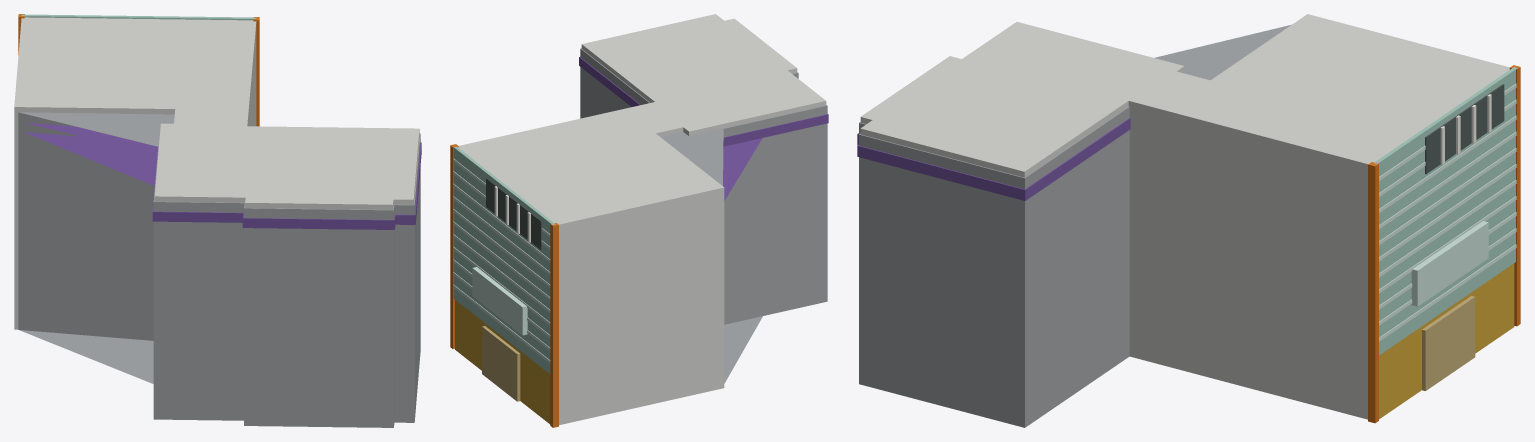
File: top-city.glb
The picture shows the model from 3 angles, left to right: view 1: azimuth 30°, elevation 25°; view 2: azimuth 150°, elevation 25°; view 3: azimuth 270°, elevation 25°; orthographic projection. The views are drawn at different scales.
Parts seen in each view (by area): view 1: top-city; view 2: top-city; view 3: top-city.
Part boxes in pixels (bbox=[...]): top-city: bbox=[14, 14, 421, 427]; top-city: bbox=[450, 14, 828, 427]; top-city: bbox=[857, 14, 1520, 427].
Bounding box in the file's own units: 93.03 × 70 × 164.
